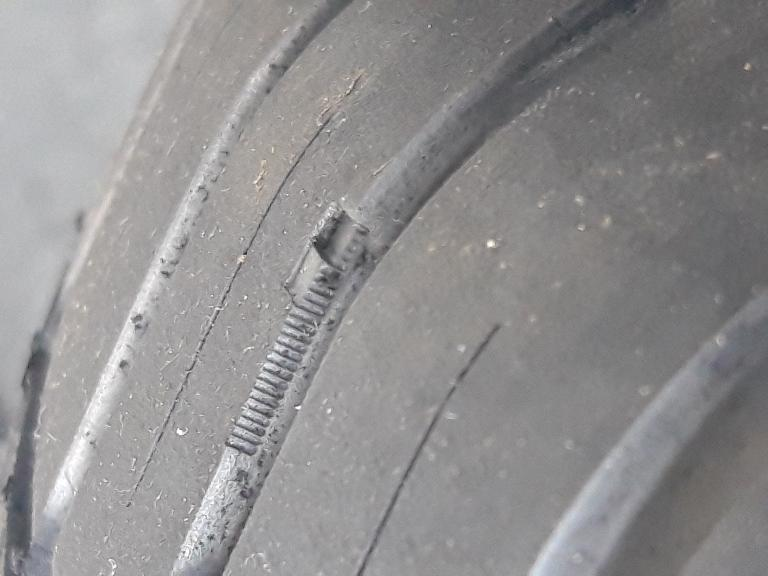temoin:25: (277, 194, 384, 323)
